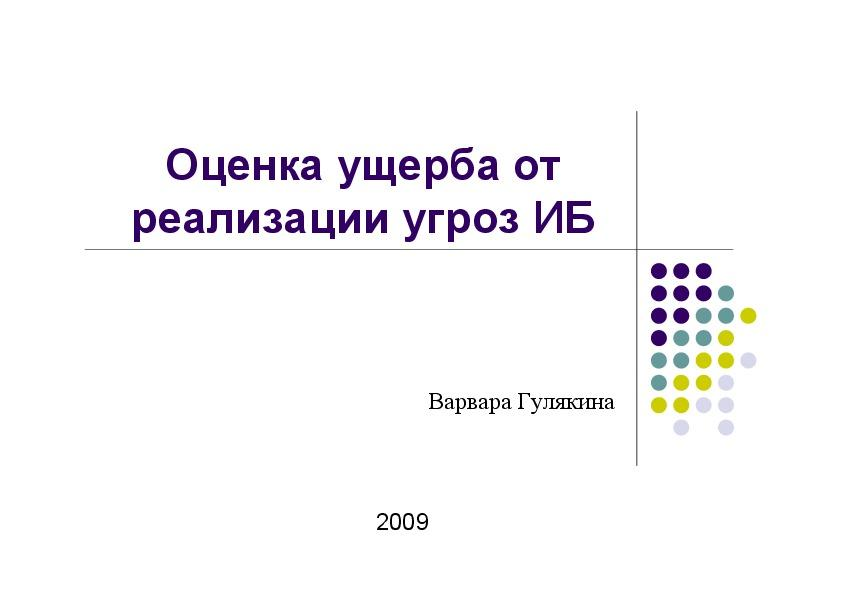subtitle: (403, 370, 635, 443)
title: (115, 104, 611, 254)
